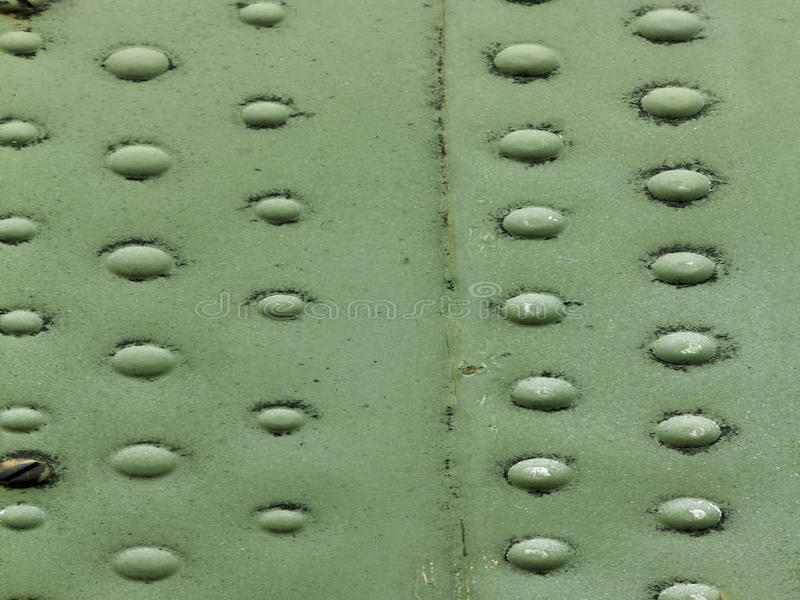rivet: (105, 240, 177, 286), (111, 543, 184, 586), (504, 535, 573, 578), (506, 452, 575, 494), (653, 495, 723, 535), (511, 374, 579, 414), (108, 344, 179, 382), (112, 439, 181, 478), (101, 46, 173, 83), (633, 8, 705, 45), (104, 143, 174, 181), (647, 247, 717, 285), (498, 205, 568, 243), (642, 168, 713, 205), (500, 289, 565, 328), (492, 42, 558, 80), (638, 85, 707, 121), (654, 413, 721, 450), (647, 330, 717, 365), (497, 129, 565, 165), (256, 504, 307, 537), (251, 194, 304, 225), (1, 115, 43, 154), (240, 98, 292, 129), (1, 305, 48, 339), (1, 403, 49, 436), (255, 404, 306, 435), (1, 26, 46, 61), (1, 501, 47, 534), (238, 2, 290, 31), (258, 292, 306, 322), (1, 216, 39, 249)
screw: (1, 451, 53, 493)
